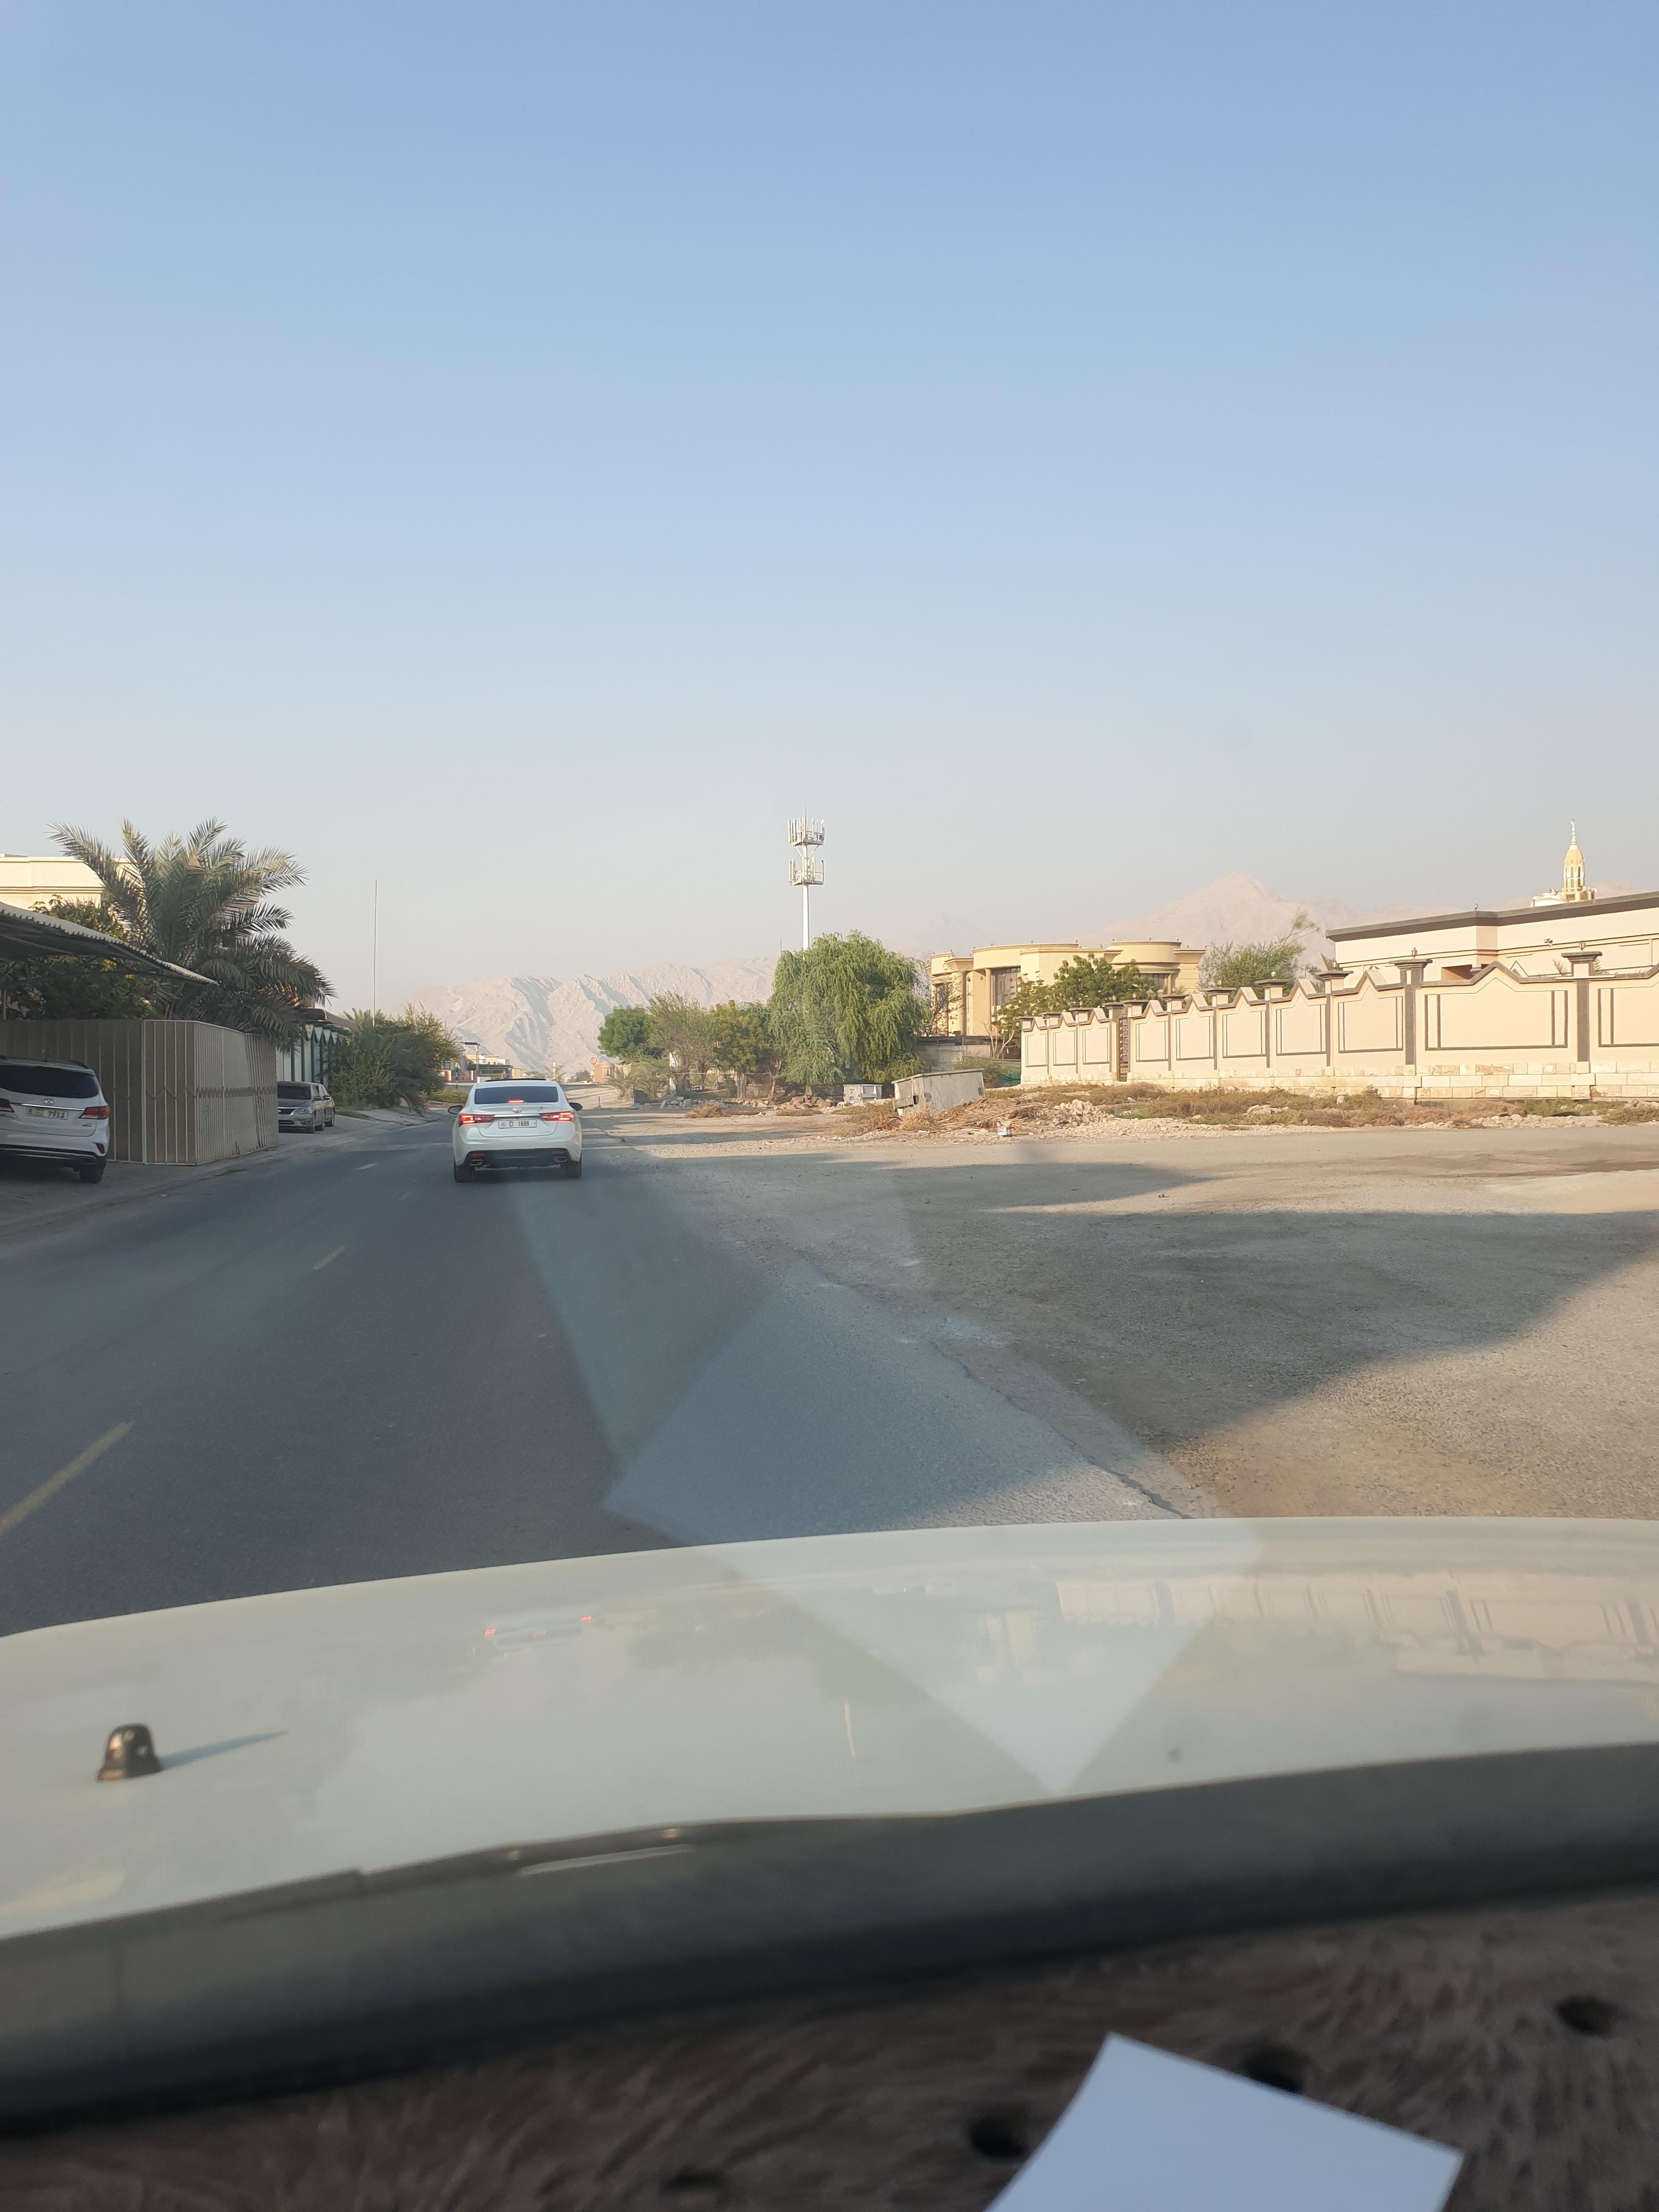fallen_trees: (1018, 1118, 1066, 1139), (945, 1115, 992, 1134), (992, 1111, 1016, 1141)
